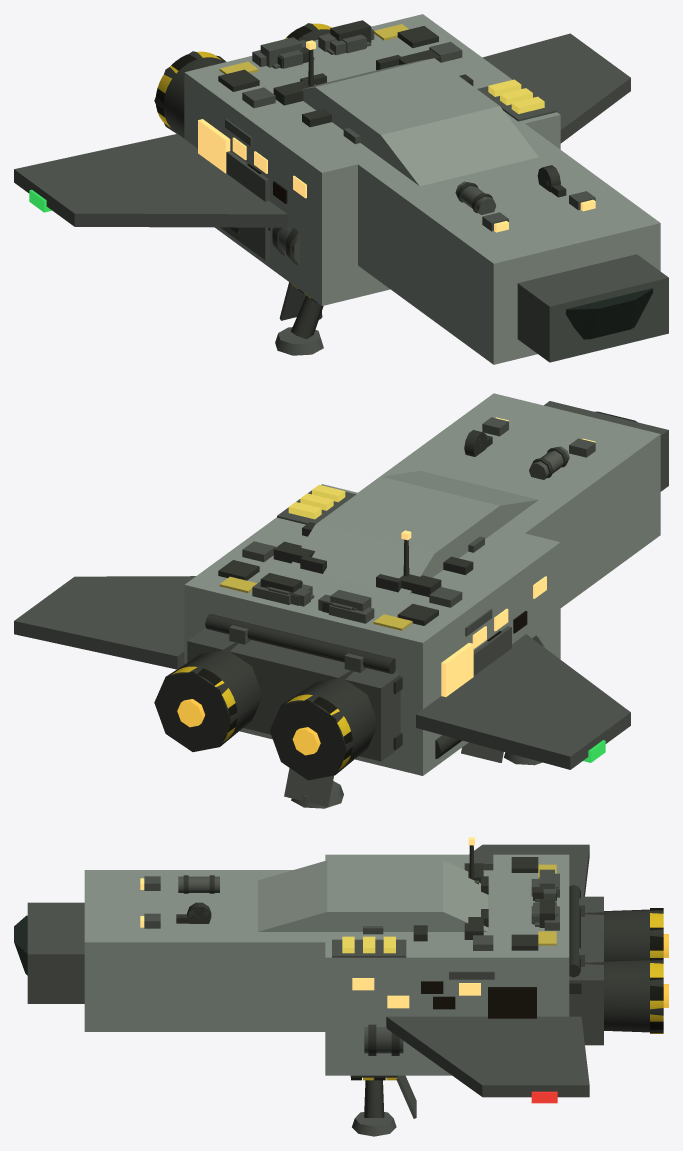
Rendered from shuttle-s.glb.
The picture shows the model from 3 angles, top to bottom: view 1: azimuth 30°, elevation 25°; view 2: azimuth 150°, elevation 25°; view 3: azimuth 270°, elevation 25°; orthographic projection. The views are drawn at different scales.
Parts seen in each view (by area): view 1: hullNose, hullMain, canopyFairing, wingLeft, hullNoseTip, wingRight, cockpitGlass, boardingDoor, engineHousing, cabinWindow0L, gearFoot, gearStrut (+8 smaller); view 2: hullMain, hullNose, canopyFairing, wingLeft, engineHousing (×2), wingRight, engineBayExtension, propellantHeader, hullNoseTip, cabinWindow0L, gearBayDoor, boardingDoor (+3 smaller); view 3: hullNose, hullMain, canopyFairing, wingRight, engineHousing (×2), hullNoseTip, engineBayExtension, wingLeft, cabinWindow0R, propellantHeader, iffPlinthDorsal, gearFoot (+6 smaller).
Boxes of the visible parts, <box> form: hullNose: <box>358,116,660,364</box>; hullMain: <box>184,14,560,305</box>; canopyFairing: <box>301,58,538,186</box>; wingLeft: <box>14,134,287,227</box>; hullNoseTip: <box>517,254,668,362</box>; wingRight: <box>482,33,630,143</box>; cockpitGlass: <box>566,288,653,339</box>; boardingDoor: <box>220,151,269,260</box>; engineHousing: <box>154,51,226,138</box>; cabinWindow0L: <box>198,119,230,173</box>; gearFoot: <box>275,327,323,355</box>; gearStrut: <box>291,295,323,338</box>; hullMain: <box>184,484,560,775</box>; hullNose: <box>358,393,660,607</box>; canopyFairing: <box>290,470,538,594</box>; wingLeft: <box>416,634,630,769</box>; engineHousing (×2): <box>154,642,378,780</box>; wingRight: <box>14,576,195,669</box>; engineBayExtension: <box>187,628,400,761</box>; propellantHeader: <box>205,614,395,673</box>; hullNoseTip: <box>544,401,668,491</box>; cabinWindow0L: <box>441,643,473,696</box>; gearBayDoor: <box>284,768,333,806</box>; boardingDoor: <box>473,626,511,675</box>; hullNose: <box>84,870,344,1031</box>; hullMain: <box>325,854,569,1075</box>; canopyFairing: <box>258,860,487,931</box>; wingRight: <box>386,1016,589,1097</box>; engineHousing (×2): <box>585,909,663,1032</box>; hullNoseTip: <box>27,902,84,1003</box>; engineBayExtension: <box>569,896,603,1045</box>; wingLeft: <box>469,844,589,896</box>; cabinWindow0R: <box>488,987,536,1018</box>; propellantHeader: <box>569,885,580,977</box>; iffPlinthDorsal: <box>332,939,406,957</box>; gearFoot: <box>352,1112,396,1136</box>.
Size of the model in its own units: 3.53 by 1.48 by 4.03.
